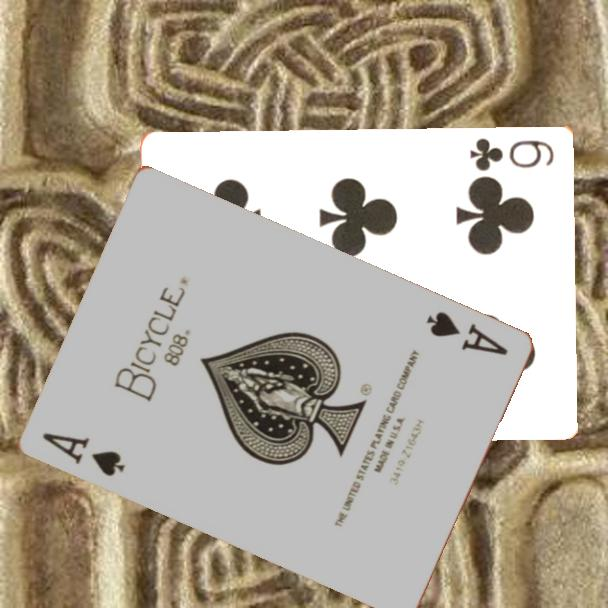c06: (467, 134, 557, 173)
s01: (37, 429, 128, 480), (422, 308, 511, 359)
